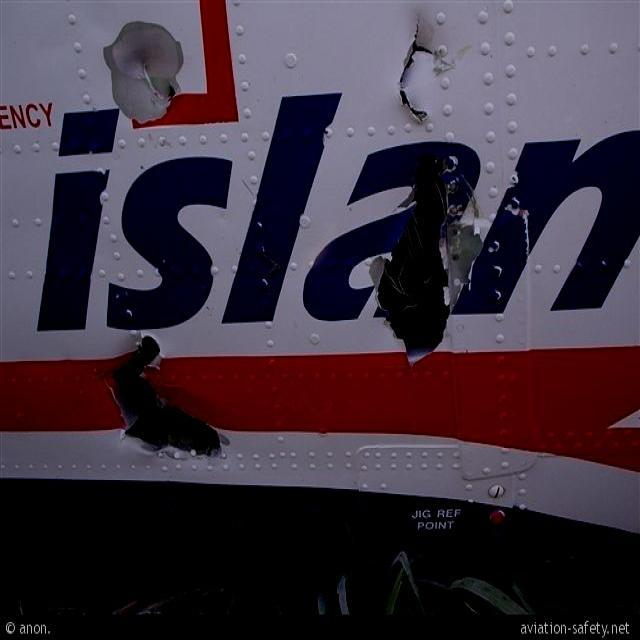crack: (379, 156, 482, 374), (102, 331, 232, 466), (396, 13, 455, 127), (146, 61, 181, 115)
